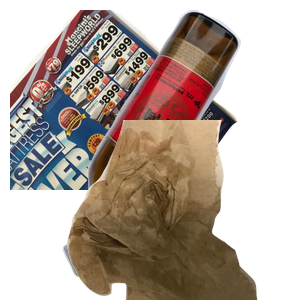glass: (85, 10, 300, 190)
paper: (10, 10, 240, 190)
plastic: (60, 190, 300, 280)
trash: (65, 120, 300, 300)
